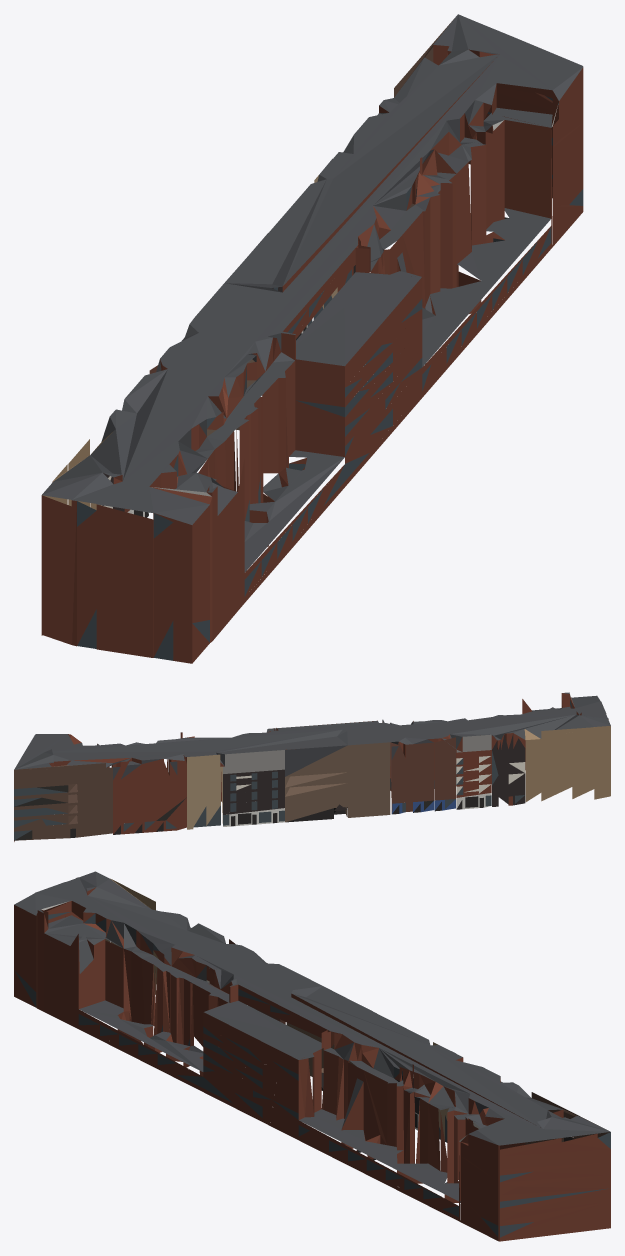
File: wiborgeiland-76.lod2.glb
3 renders of one model, top to bottom at view 1: azimuth 30°, elevation 25°; view 2: azimuth 150°, elevation 25°; view 3: azimuth 270°, elevation 25°, orthographic. The views are drawn at different scales.
Parts seen in each view (by area): view 1: lod2; view 2: lod2; view 3: lod2.
Boxes of the visible parts, <box> form: lod2: <box>41,14,583,663</box>; lod2: <box>14,692,610,841</box>; lod2: <box>14,871,610,1241</box>.
Size of the model in its own units: 122 by 21.54 by 112.
